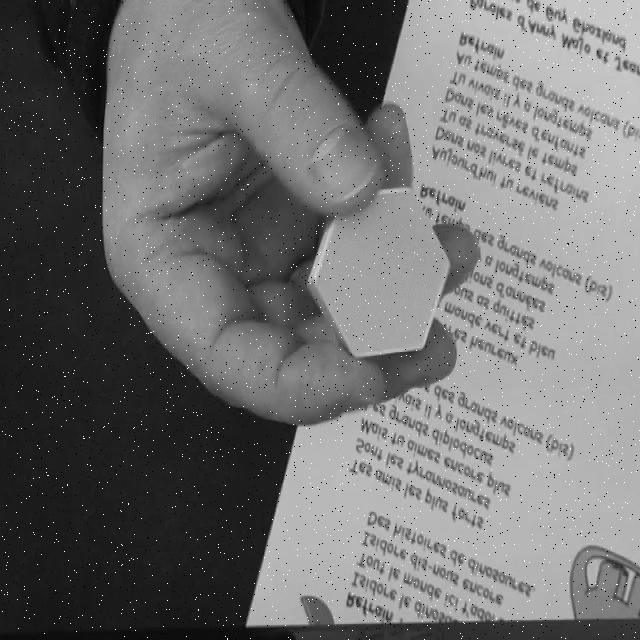hexagon: (309, 185, 450, 359)
